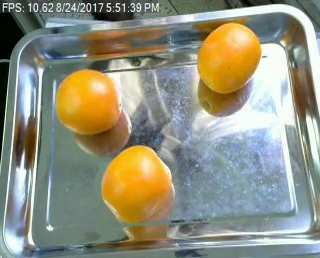Orange: (100, 143, 174, 222), (197, 21, 261, 93), (54, 69, 121, 135)
